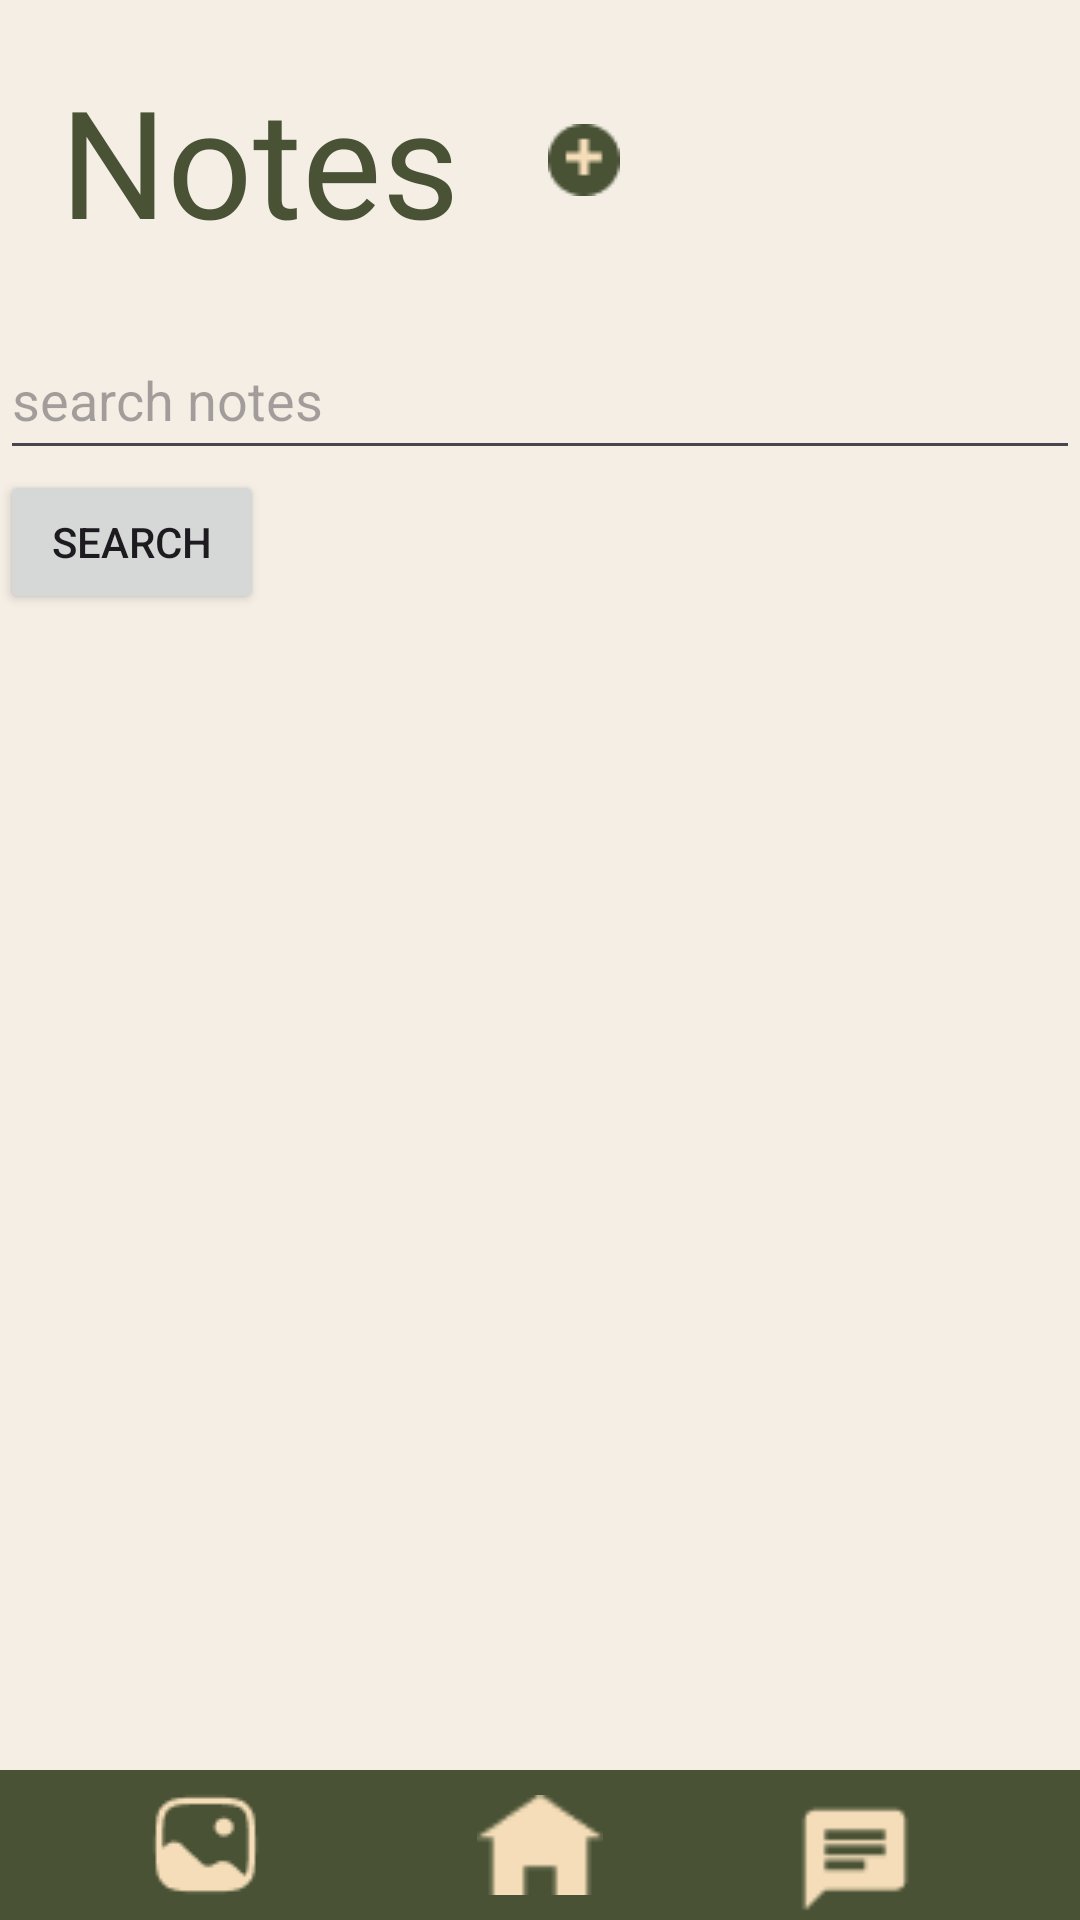

Named icons in this screenshot (1080x1920) and their centers, [x,y]:
add: [584,160]
chat: [855,1859]
home: [539,1845]
solar gallery: [205,1844]
